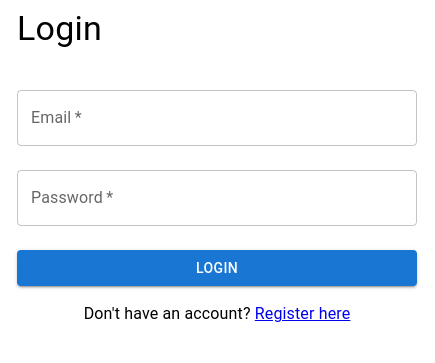
Test: Login Component › shows error message for invalid login credentials
This screenshot has width=435, height=363.
Type "wrong@example.com" into the field labelled "Email *".
click(217, 118); type("wrong@example.com")  # box [17, 90, 417, 146]
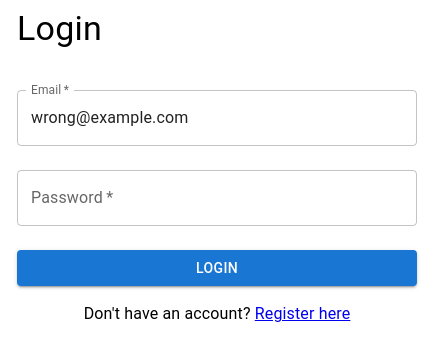
Type "wrongpassword" into the password field labelled "Password *".
click(217, 198); type("wrongpassword")  # box [17, 170, 417, 226]
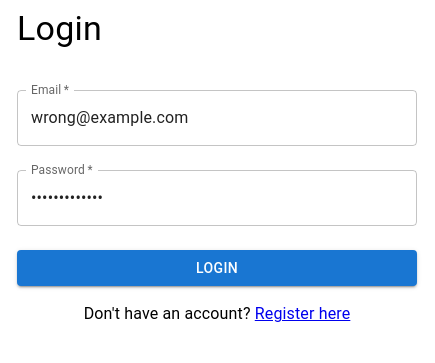
Click the button "Login".
click(217, 268)  # box [17, 250, 417, 286]
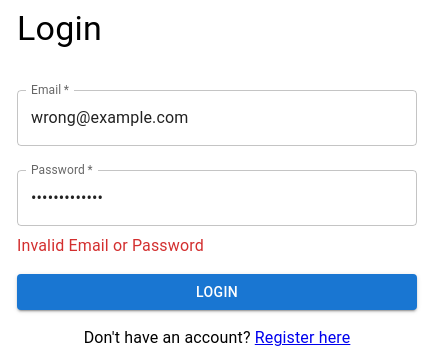
Now the text "Invalid Email or Password" is shown, box [17, 236, 204, 255]
